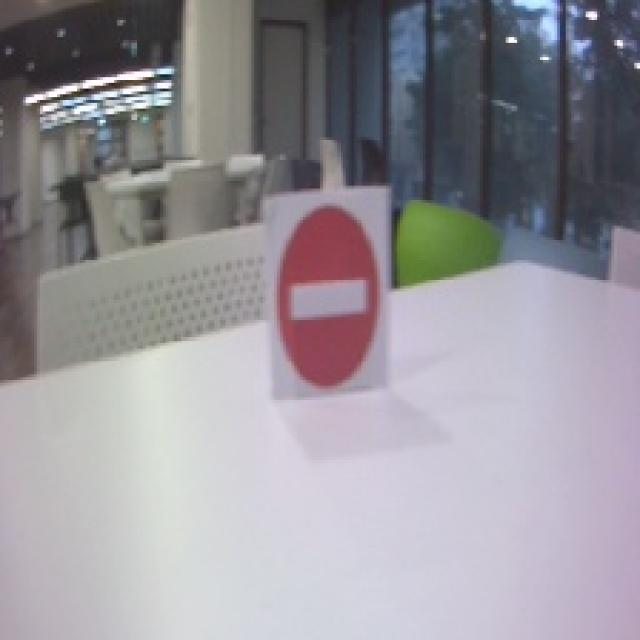DoNotEnterSign: (274, 206, 382, 388)
